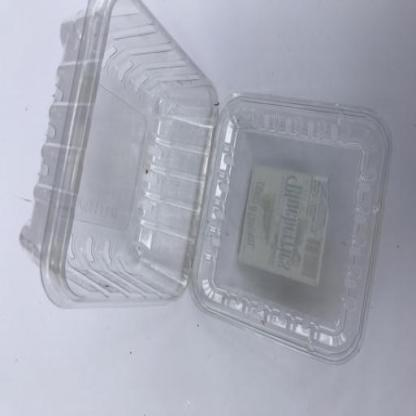trash: (17, 1, 391, 362)
